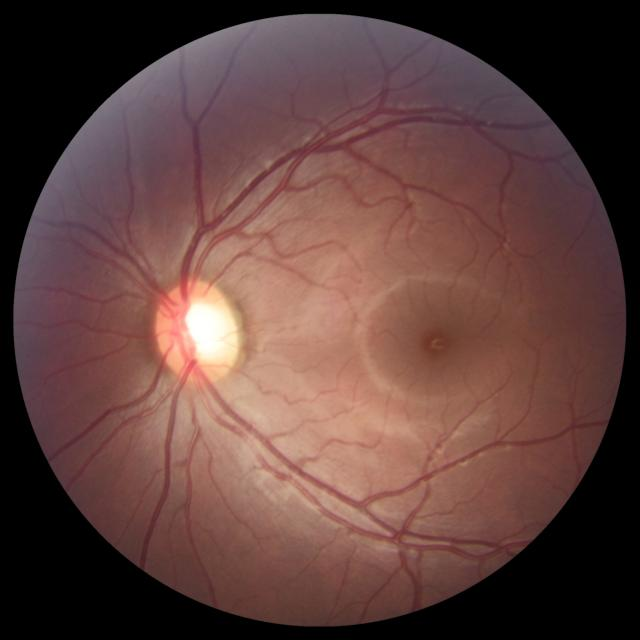OC: (177, 299, 228, 365)
OD: (154, 278, 240, 384)
